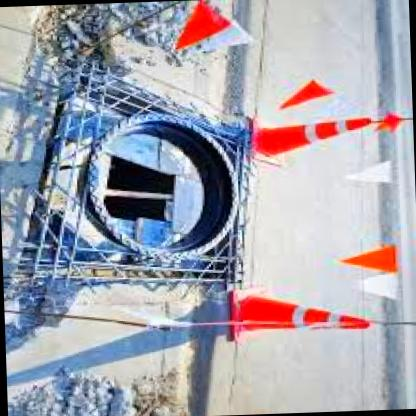manholes: (61, 98, 252, 294)
